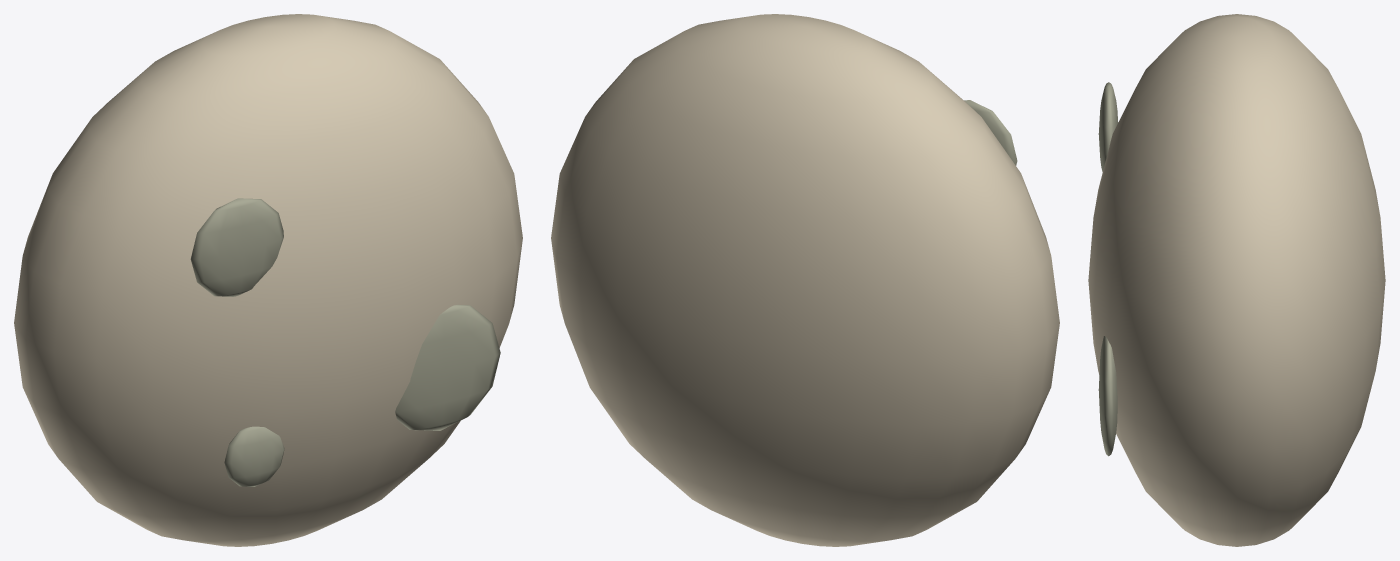
File: moon.glb
The picture shows the model from 3 angles, left to right: view 1: azimuth 30°, elevation 25°; view 2: azimuth 150°, elevation 25°; view 3: azimuth 270°, elevation 25°; orthographic projection. The views are drawn at different scales.
Parts seen in each view (by area): view 1: body; view 2: body; view 3: body.
Boxes of the visible parts, x1=… form: body: x1=14, y1=14, x2=522, y2=546; body: x1=551, y1=14, x2=1059, y2=546; body: x1=1088, y1=14, x2=1385, y2=546.
Bounding box in the file's own units: 1.44 × 1.44 × 0.8.
